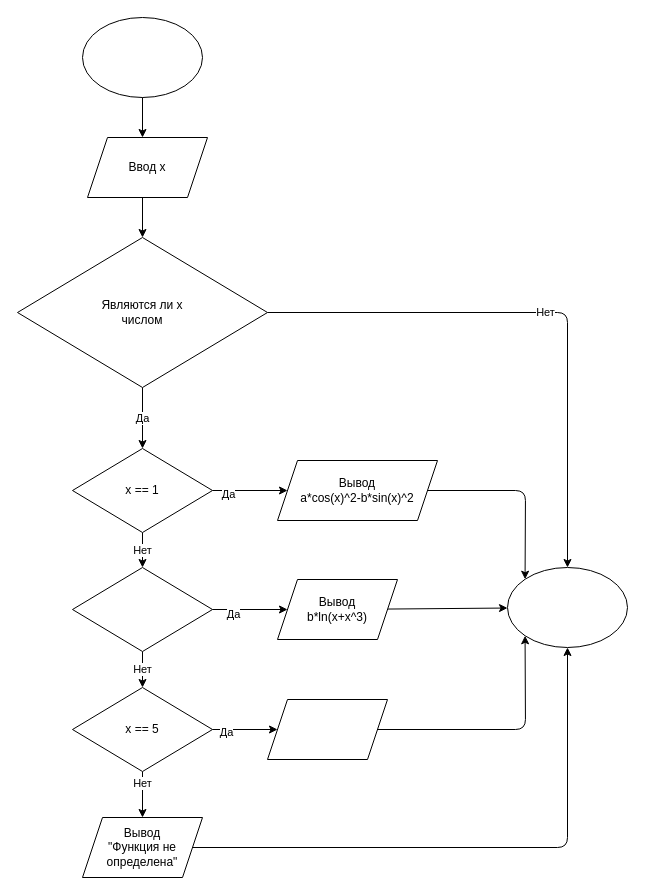
Image size: 645x895. Some labels were removed from this diagram. Each missing label, with the box of its shape:
x == 4: (72, 566, 212, 652)
Вывод sqrt(x^2+ab): (266, 698, 388, 760)
Конец: (506, 566, 628, 648)
Начало: (82, 16, 202, 98)
